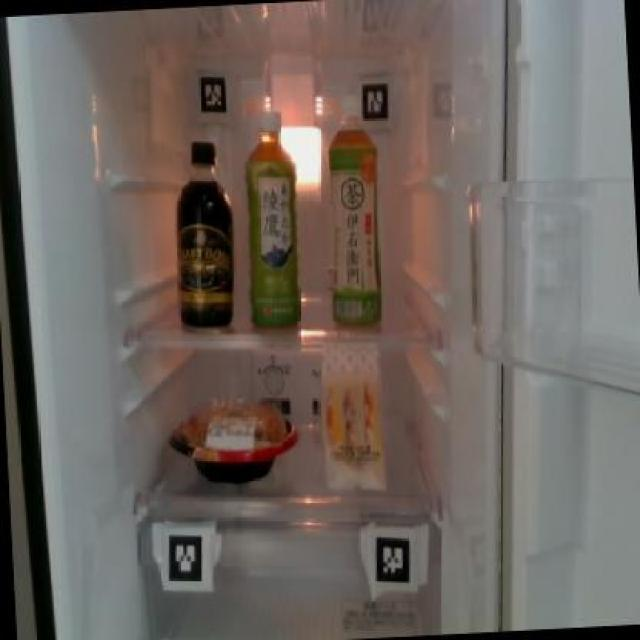bento: (168, 401, 300, 484)
coffee: (166, 130, 239, 327)
sandwich: (318, 342, 390, 493)
tea_a: (238, 95, 304, 331)
tea_i: (320, 121, 382, 326)
